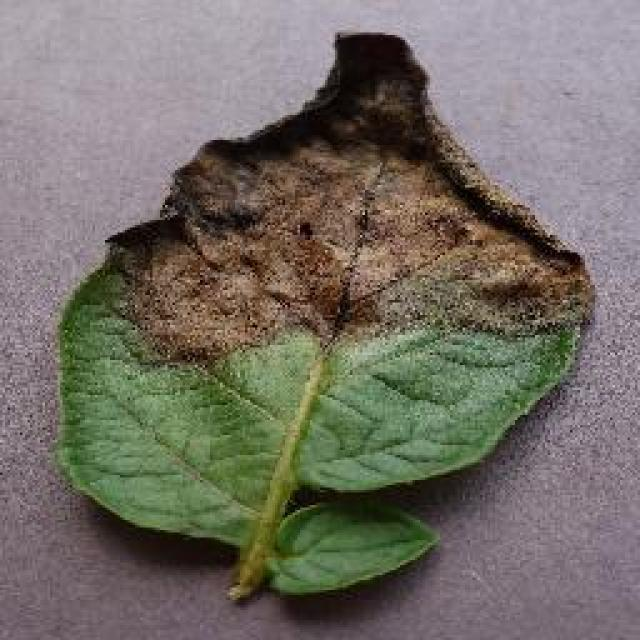Potato___Late_blight: (37, 18, 605, 628)
